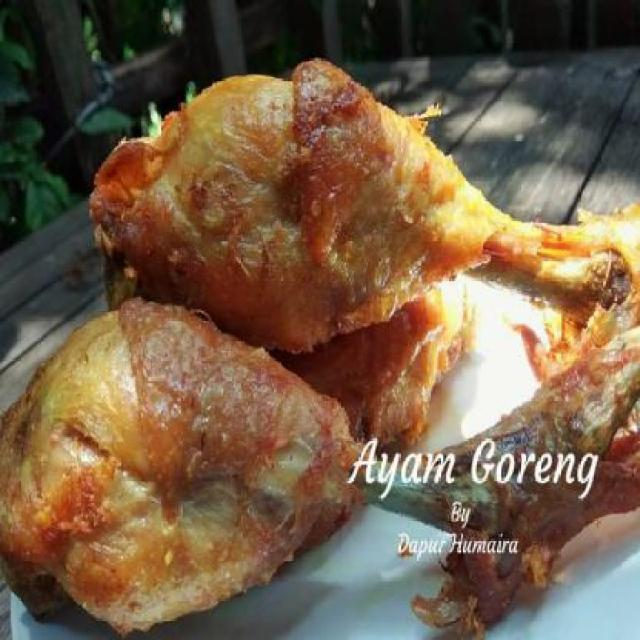Wet Waste: (0, 310, 638, 635), (91, 57, 638, 360)
